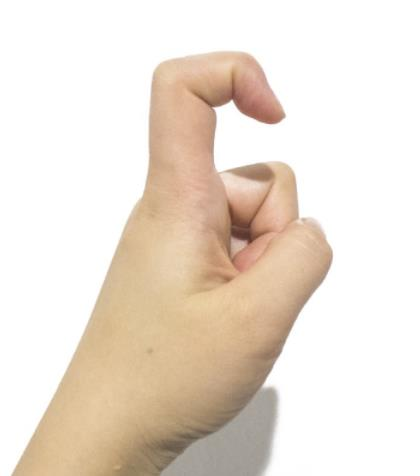anticlockwise: (75, 44, 339, 443)
